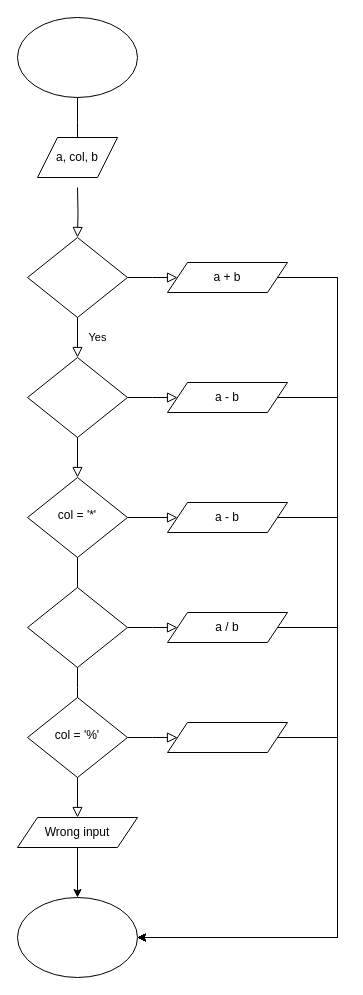
The diagram is 363 pixels wide and 995 high, and some of its shapes have lost their labels. Each missing label, with the centre of its shape:
"a % b" belongs at (x=227, y=737).
"col = '+'" belongs at (x=77, y=277).
"col = '-'" belongs at (x=77, y=397).
"col = '/'" belongs at (x=77, y=627).
